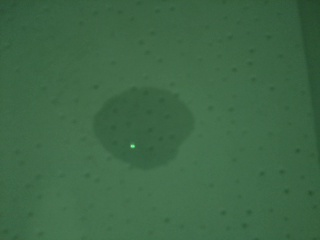Water_detected: (103, 88, 185, 160)
